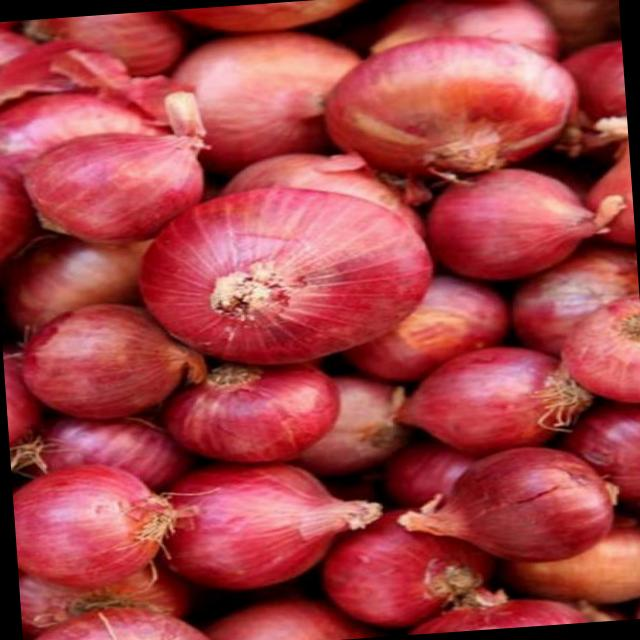onion: (138, 178, 442, 371), (324, 27, 578, 184), (15, 97, 210, 260), (162, 453, 366, 590), (431, 162, 635, 291), (9, 452, 180, 602), (16, 299, 215, 426), (419, 442, 611, 570), (401, 340, 578, 456), (174, 353, 343, 466)
